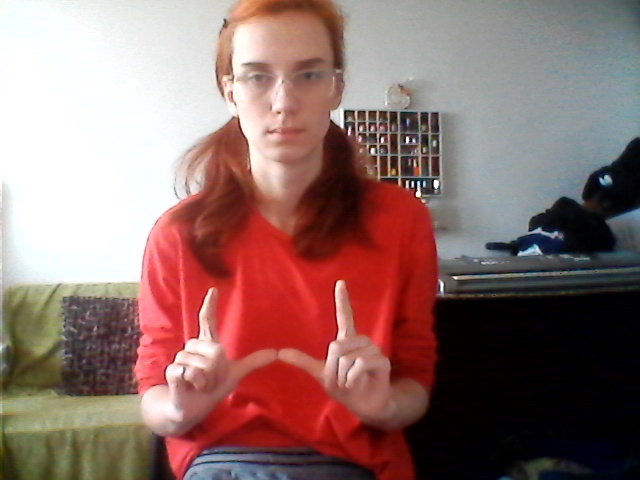u: (162, 275, 408, 426)
